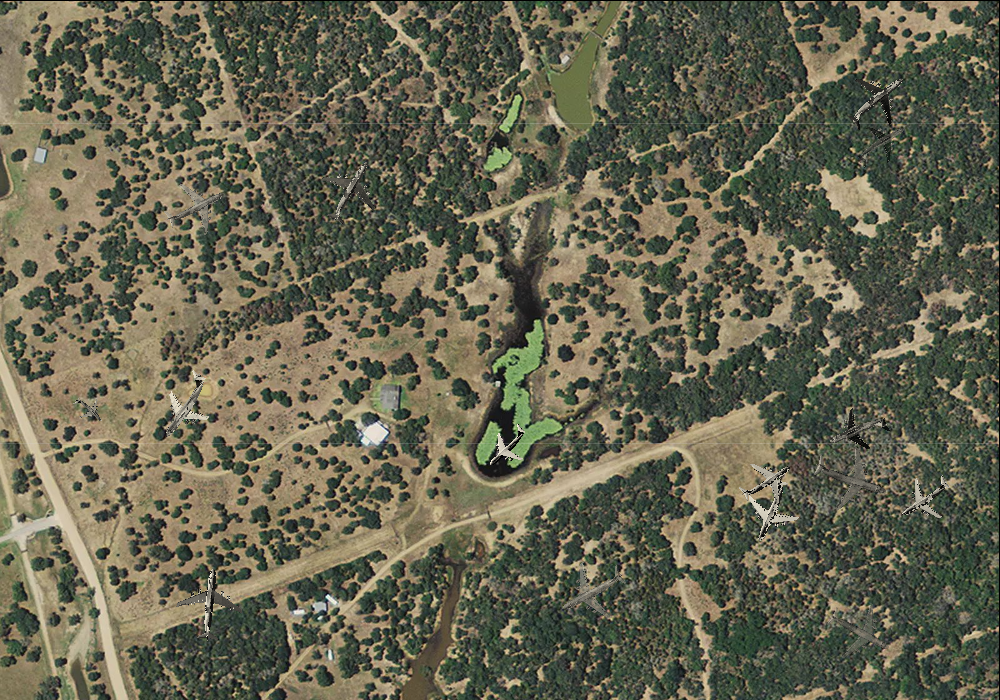plane: (804, 432, 898, 524), (138, 358, 229, 452), (831, 55, 923, 147), (546, 546, 639, 637), (305, 146, 395, 237), (815, 588, 904, 676), (728, 467, 812, 552), (153, 165, 236, 248), (172, 565, 247, 644), (820, 395, 898, 469), (728, 443, 804, 518), (887, 460, 963, 535), (845, 109, 918, 180), (473, 413, 539, 479), (66, 388, 110, 432)
